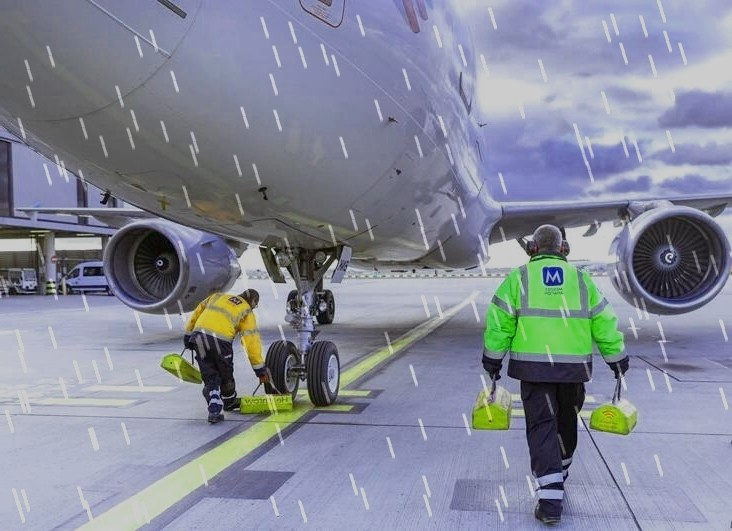chock: (587, 394, 642, 437), (469, 380, 511, 434), (160, 352, 207, 386), (238, 394, 293, 416)
wheel: (306, 339, 341, 407), (265, 339, 302, 401), (316, 289, 336, 324), (287, 289, 300, 309)
